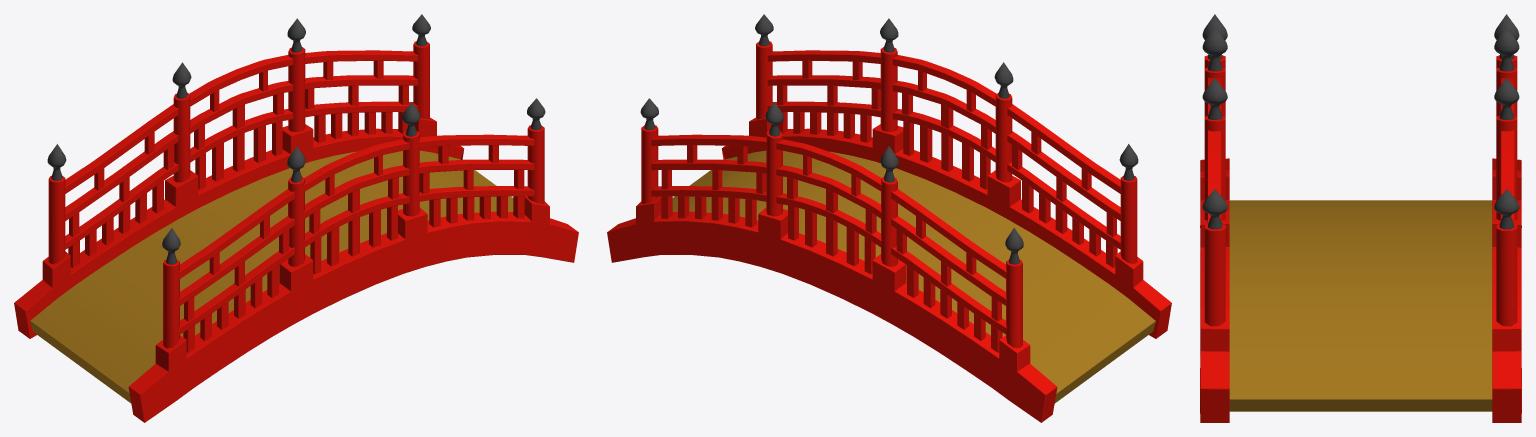
File: OrientalBridgeInclined.fbx
3 renders of one model, left to right at view 1: azimuth 30°, elevation 25°; view 2: azimuth 150°, elevation 25°; view 3: azimuth 270°, elevation 25°, orthographic. The views are drawn at different scales.
Parts seen in each view (by area): view 1: OrientalBridgeInclined; view 2: OrientalBridgeInclined; view 3: OrientalBridgeInclined.
Boxes of the visible parts, x1,y1,x2,y2 form: OrientalBridgeInclined: [14, 14, 578, 422]; OrientalBridgeInclined: [607, 14, 1171, 422]; OrientalBridgeInclined: [1200, 14, 1521, 422].
Size of the model in its own units: 8 by 4.36 by 3.99.
